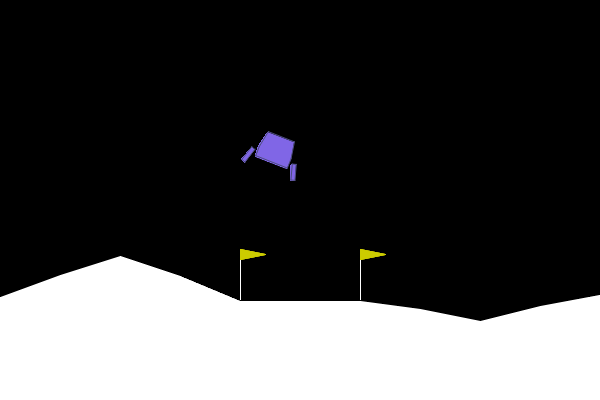lander: (239, 124, 310, 183)
